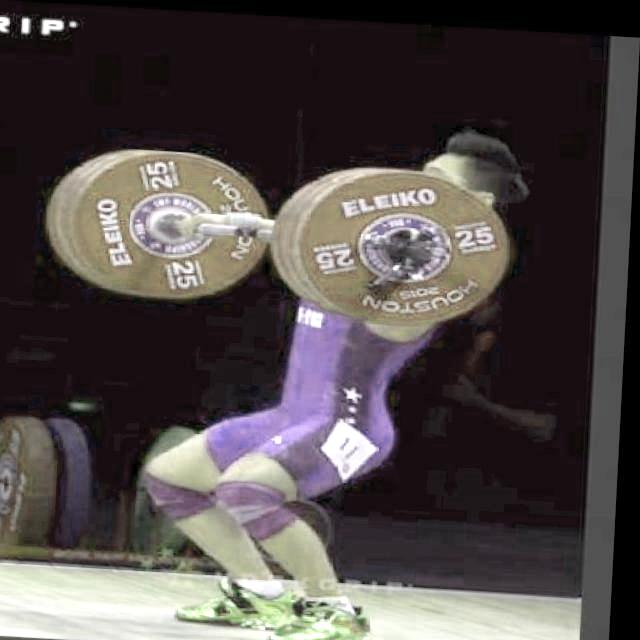barbell: (290, 151, 517, 329)
